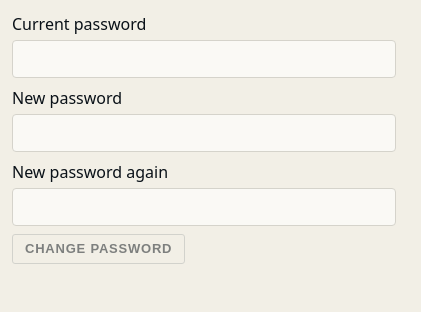
ChangePassword › changes it and says other devices are signed out
Type "the old password" into the password field labelled "Current password" at (204, 59), box 12,40 -> 396,78
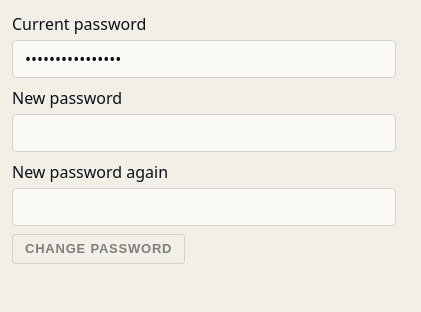
Type "the new password" into the password field labelled "New password" at (204, 133), box 12,114 -> 396,152
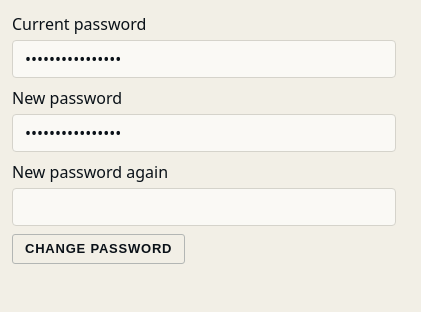
Type "the new password" into the password field labelled "New password again" at (204, 207), box 12,188 -> 396,226
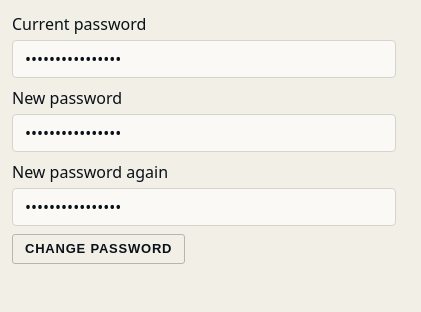
Click the button "Change password" at (99, 249), box 12,234 -> 185,264
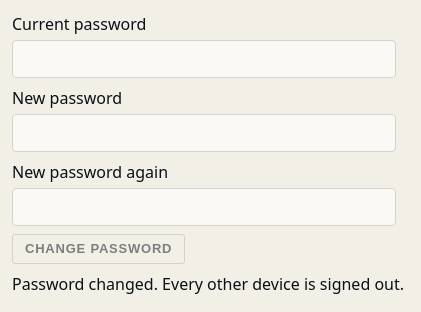
Check: the message reads "Password changed. Every other device is signed out.", box 12,273 -> 404,295
